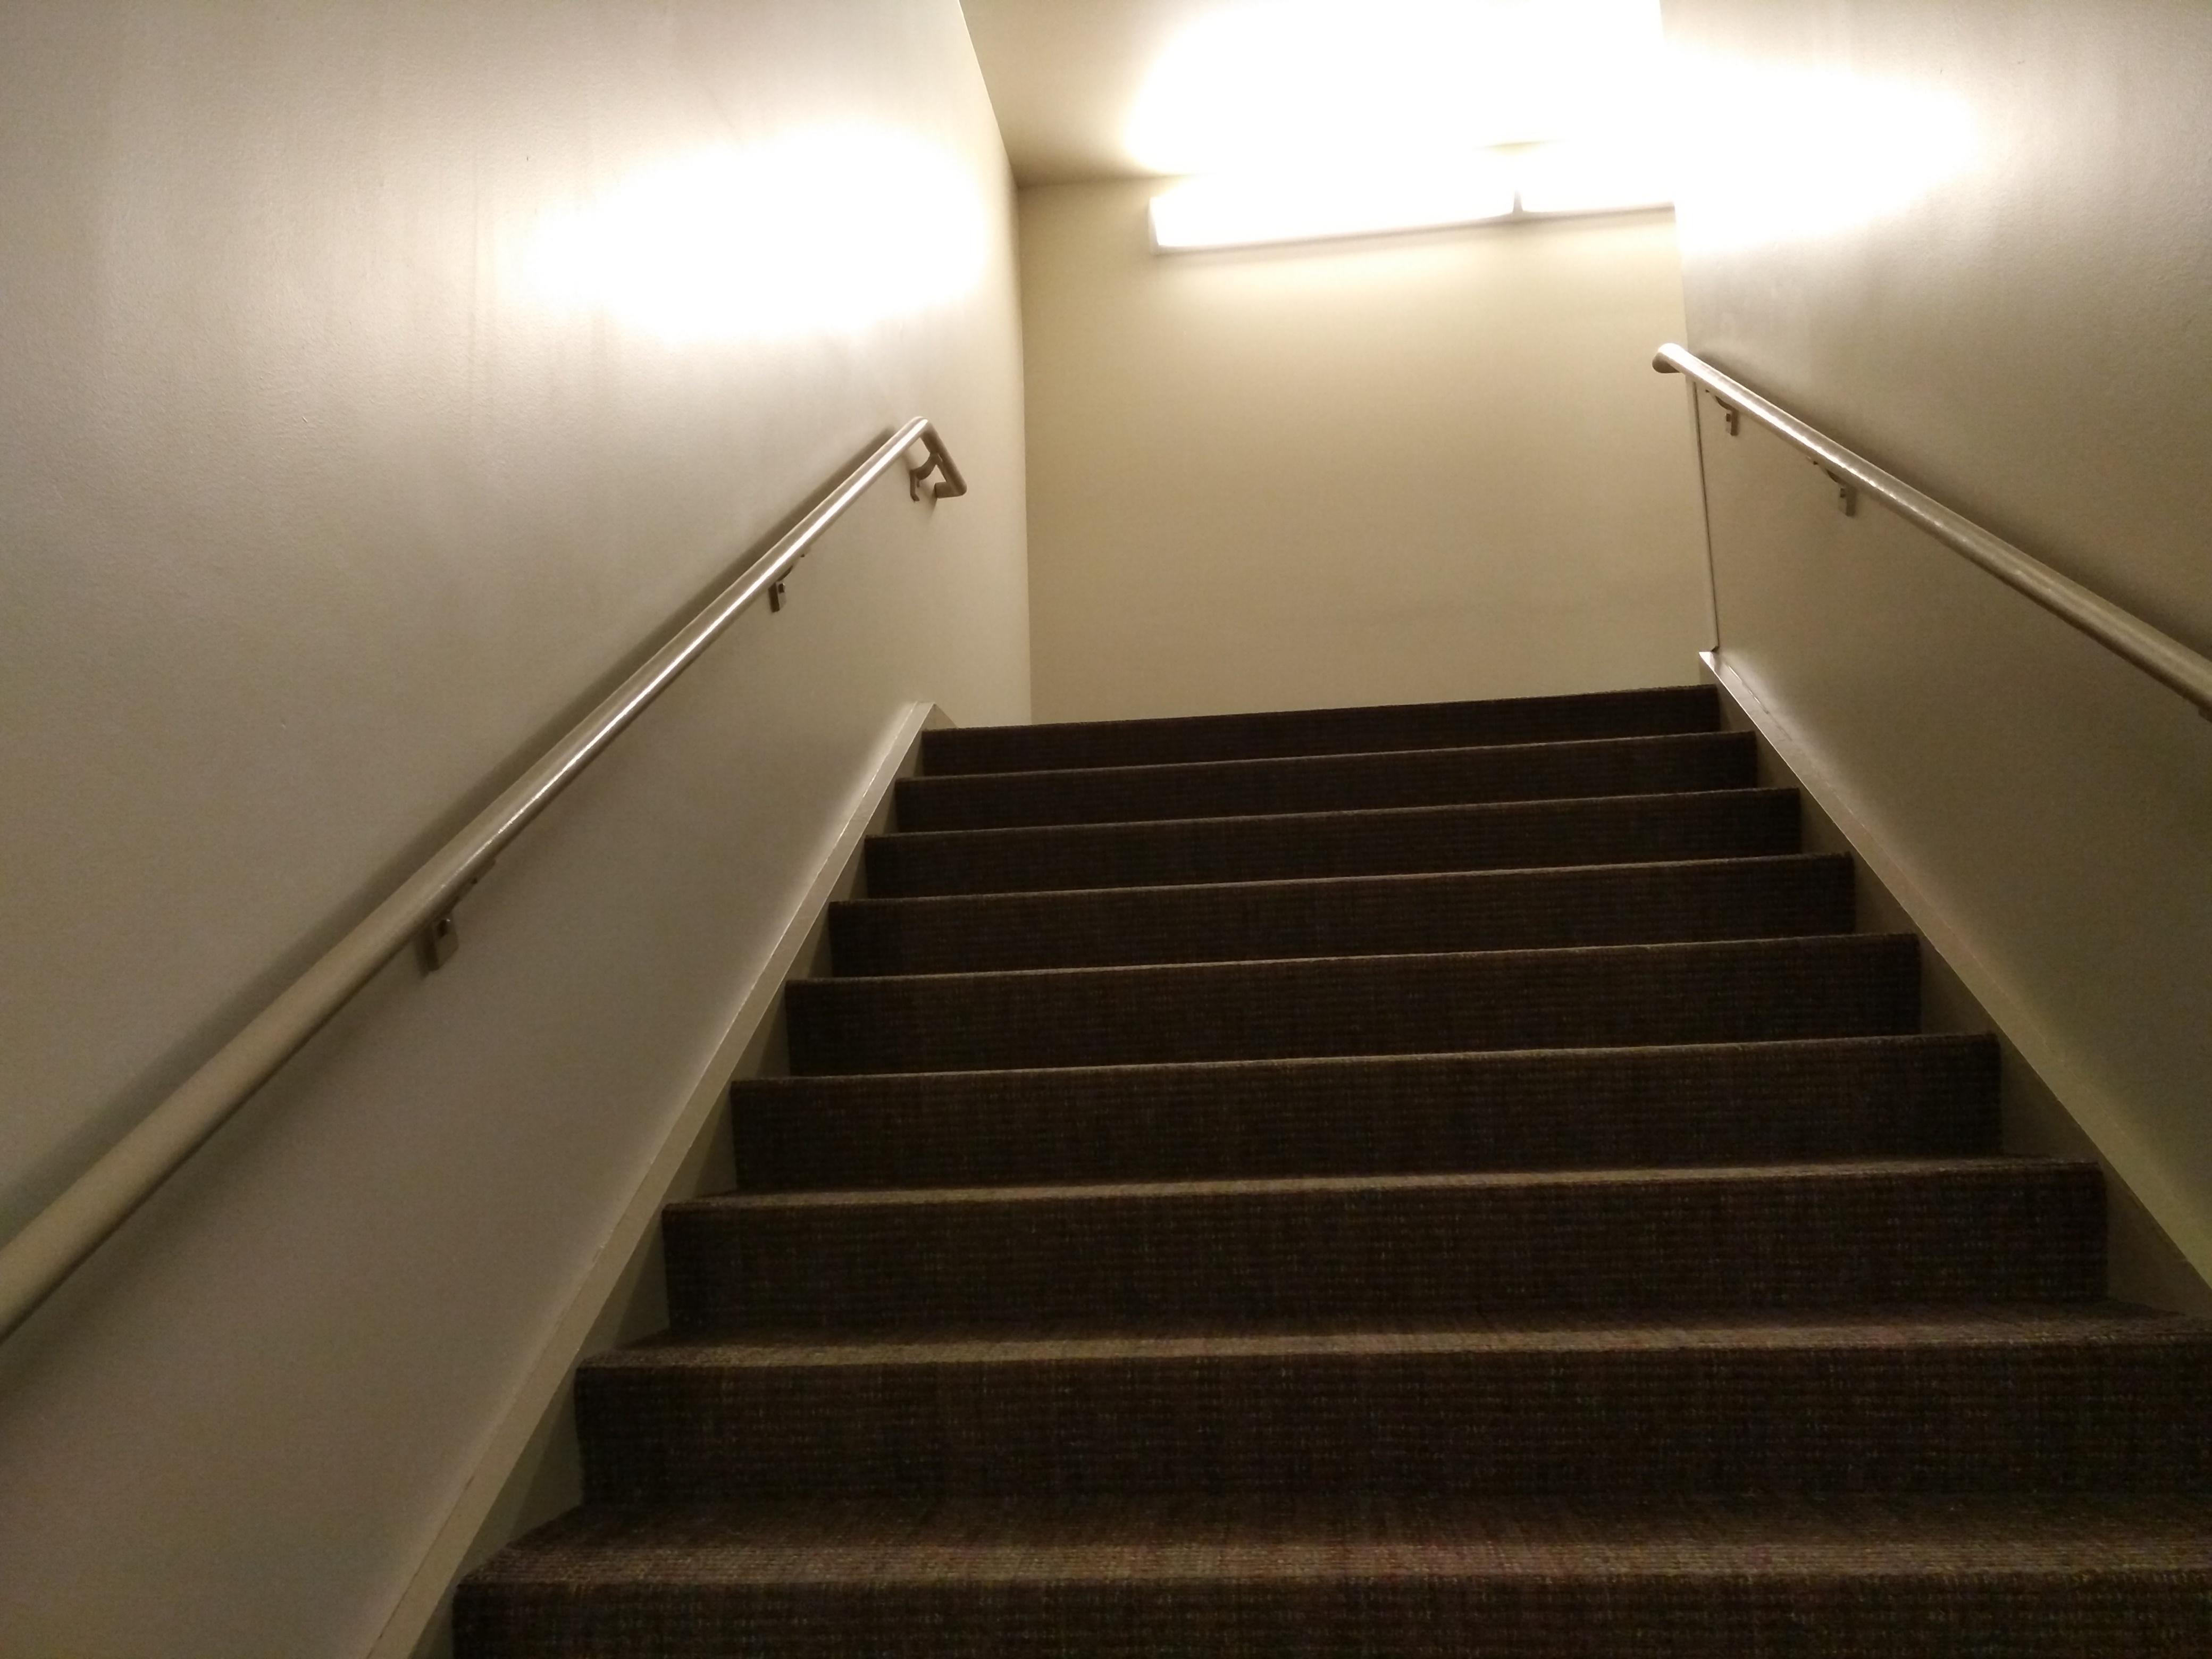stairs_up: (432, 653, 2212, 1649)
